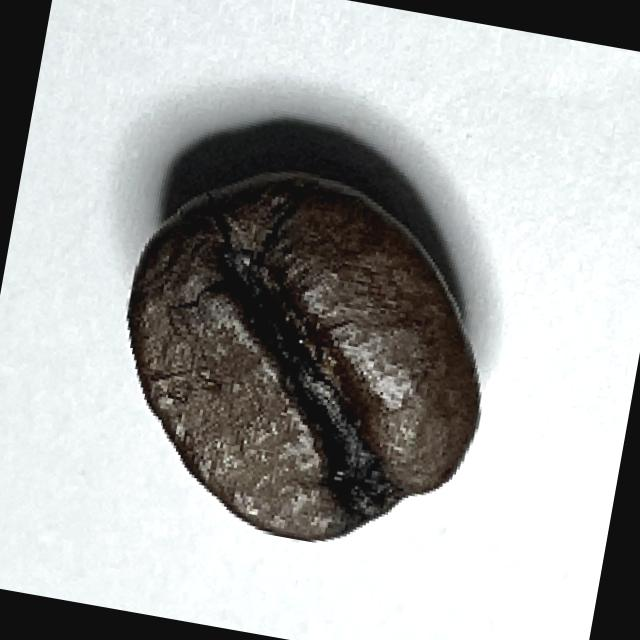bean: (92, 145, 517, 570)
